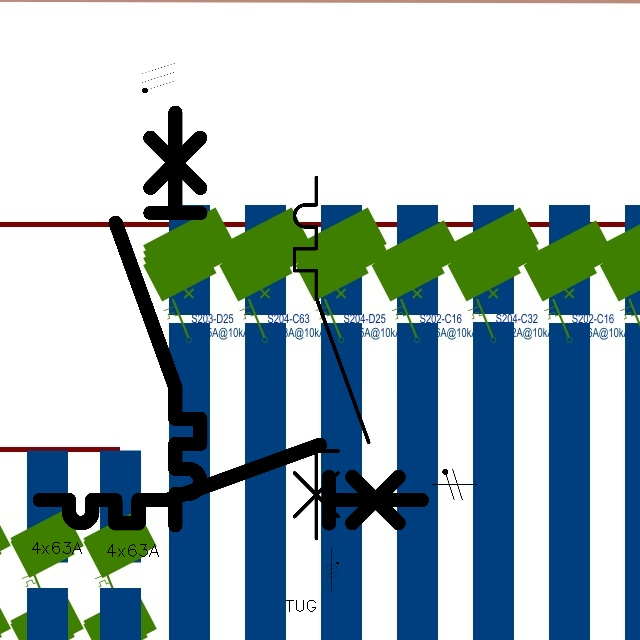interruptor_termomagnetico: (105, 102, 211, 536), (30, 435, 432, 533), (285, 168, 378, 548)
